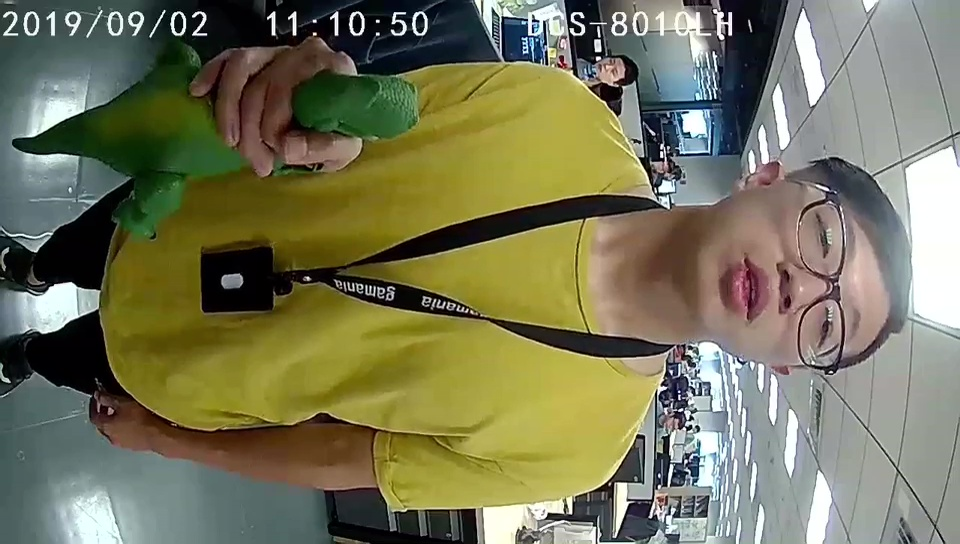rex: (110, 72, 420, 245)
